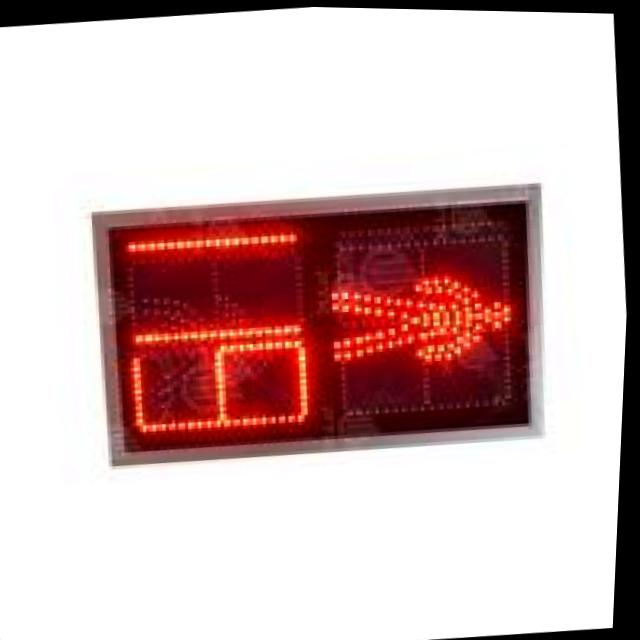red_light: (37, 119, 371, 542), (298, 147, 559, 477)
